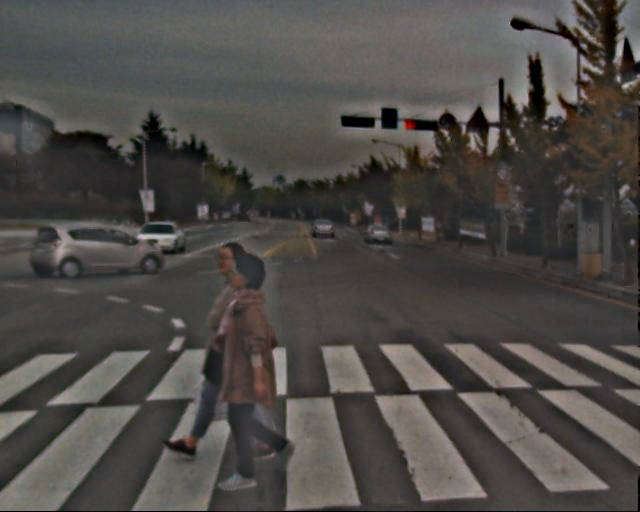person: (201, 248, 298, 490), (189, 237, 279, 466)
